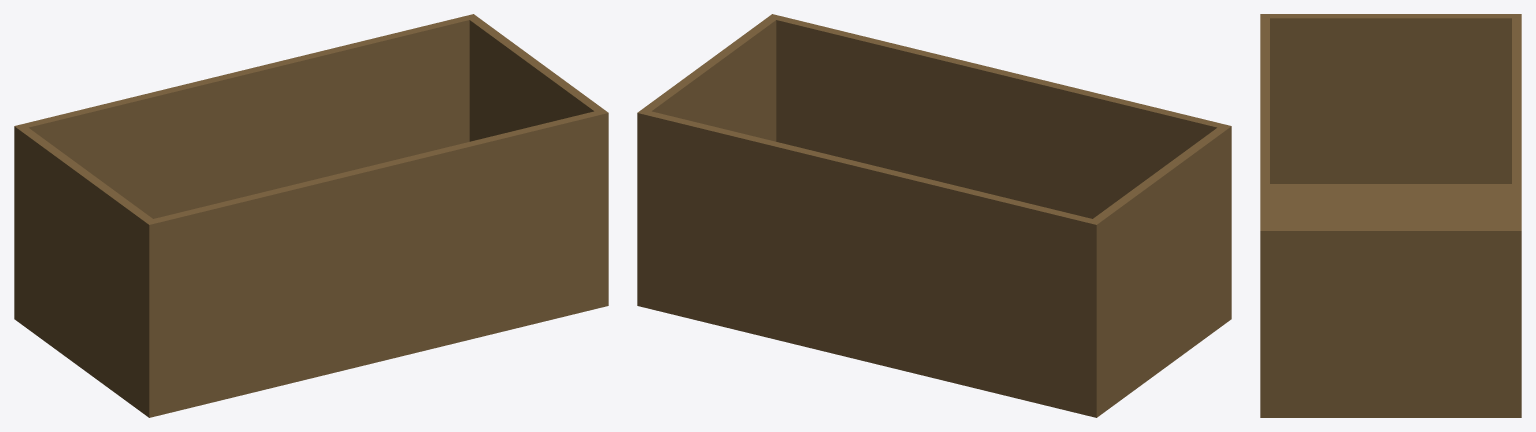
Rendered from schuifkast lade.fbx.
The picture shows the model from 3 angles, left to right: view 1: azimuth 30°, elevation 25°; view 2: azimuth 150°, elevation 25°; view 3: azimuth 270°, elevation 25°; orthographic projection. The views are drawn at different scales.
Parts seen in each view (by area): view 1: Ladekast Schuif; view 2: Ladekast Schuif; view 3: Ladekast Schuif.
Boxes of the visible parts, box(x1,y1,x2,y2) form: Ladekast Schuif: box(14, 14, 608, 417); Ladekast Schuif: box(637, 14, 1231, 417); Ladekast Schuif: box(1260, 14, 1521, 417).
Bounding box in the file's own units: 68.17 × 27.36 × 34.71.
